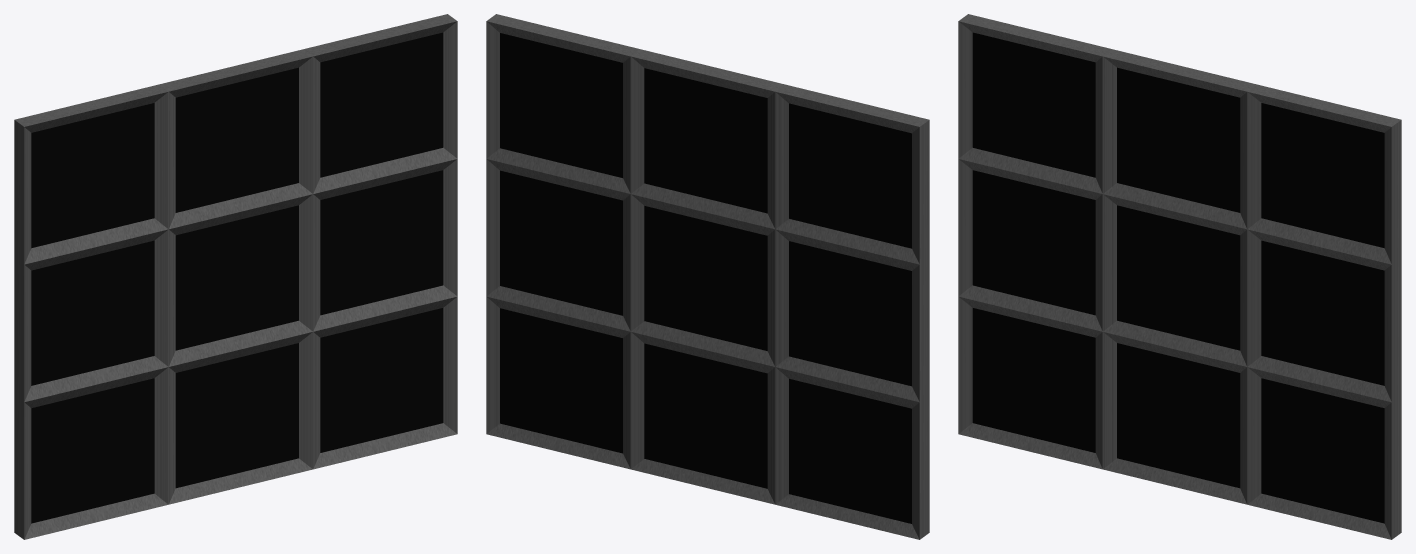
The model's file is windowProp.fbx.
The picture shows the model from 3 angles, left to right: view 1: azimuth 30°, elevation 25°; view 2: azimuth 150°, elevation 25°; view 3: azimuth 330°, elevation 25°; orthographic projection.
Parts seen in each view (by area): view 1: Box001; view 2: Box001; view 3: Box001.
Boxes of the visible parts, x1,y1,x2,y2 form: Box001: (14,14,457,539); Box001: (486,14,929,539); Box001: (958,14,1401,539).
Size of the model in its own units: 142 by 130 by 5.63.
Materials: 2 (1 with a texture image).
